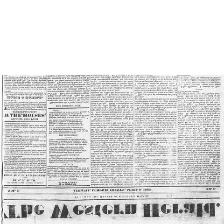news_paper: (0, 70, 224, 223)
